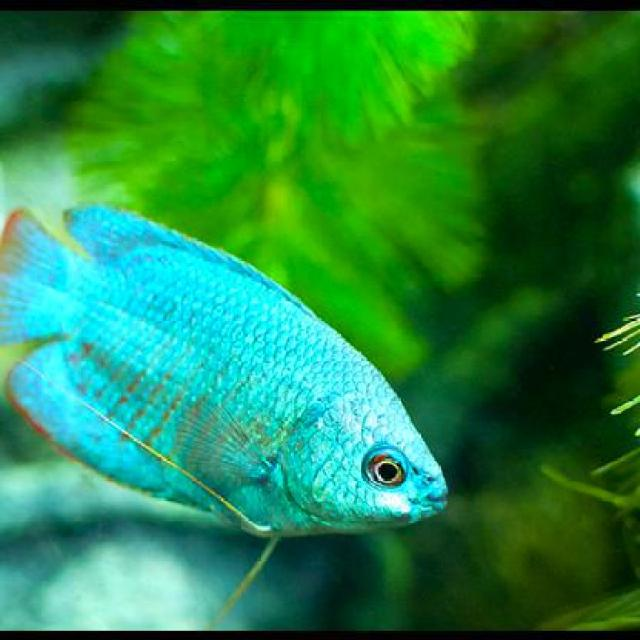Gourami: (0, 199, 455, 539)
